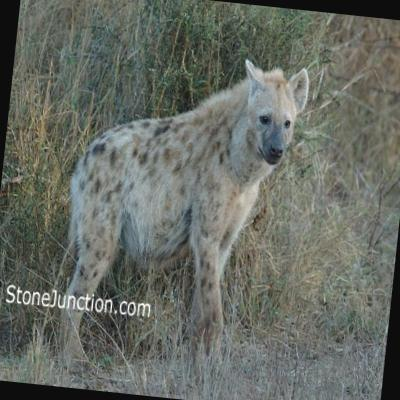hyenas: (28, 26, 322, 394)
